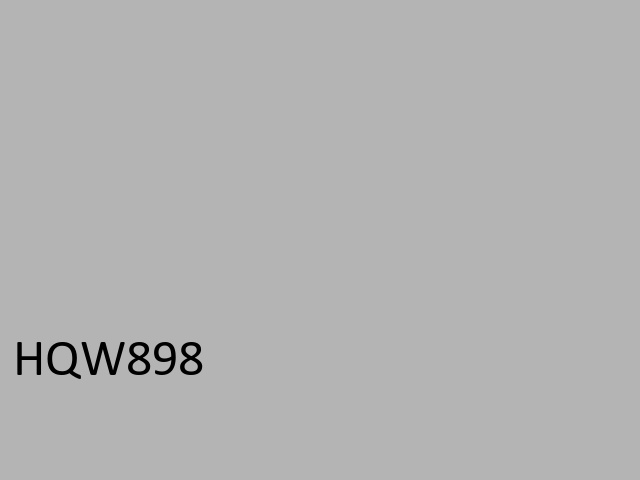OCR_AREA: (9, 338, 208, 383)
